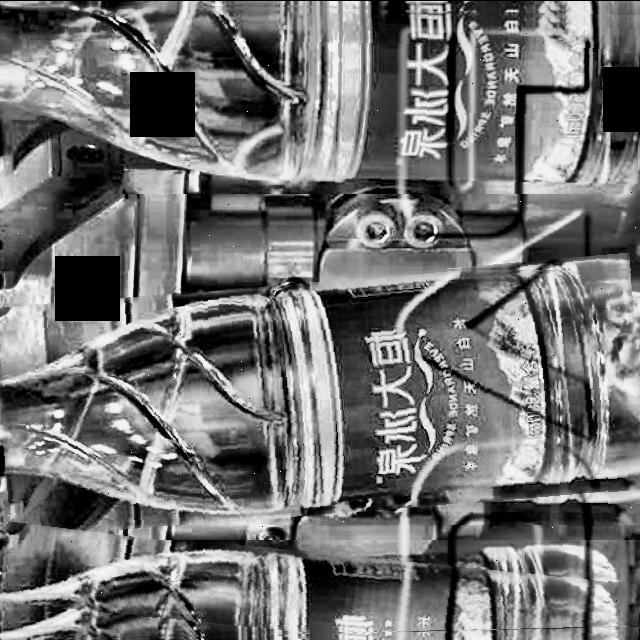bottle: (0, 265, 640, 524), (0, 0, 640, 193), (0, 539, 640, 640)
